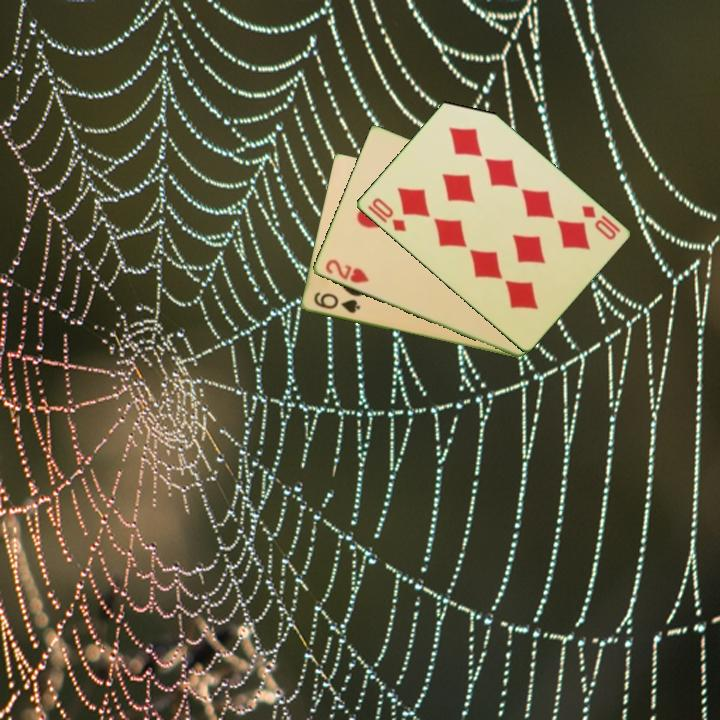10d: (577, 202, 619, 243), (368, 194, 409, 235)
2h: (321, 256, 372, 286)
6s: (310, 288, 363, 316)
